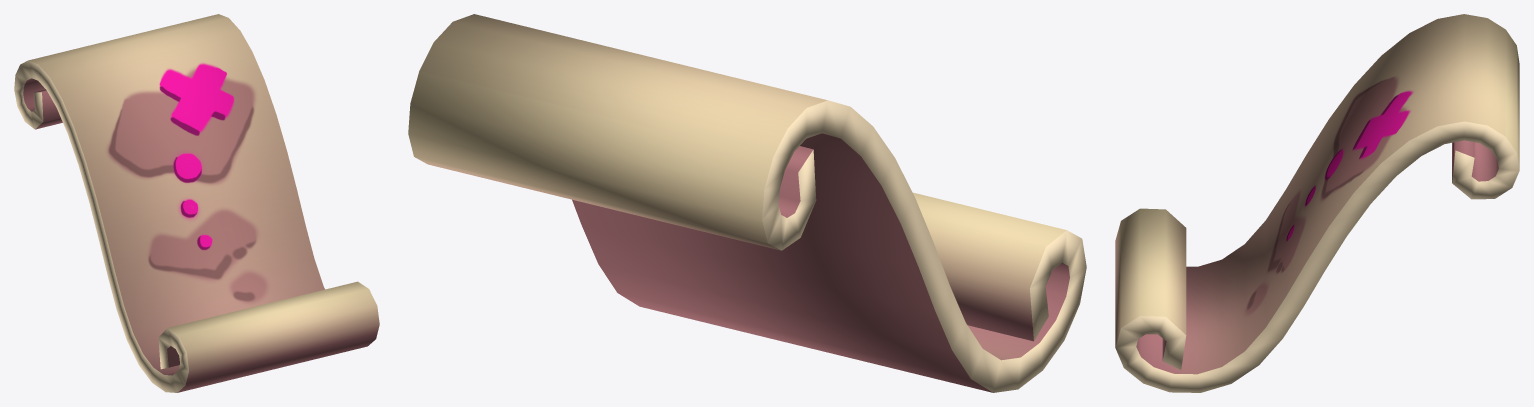
File: Map.fbx
3 views of the same model, side by side, from view 1: azimuth 30°, elevation 25°; view 2: azimuth 150°, elevation 25°; view 3: azimuth 270°, elevation 25° (orthographic). The views are drawn at different scales.
Parts seen in each view (by area): view 1: Map; view 2: Map; view 3: Map.
Part boxes in pixels (left/top/right/bottom): Map: left=14, top=14, right=379, bottom=392; Map: left=408, top=14, right=1086, bottom=392; Map: left=1115, top=14, right=1519, bottom=392.
Size of the model in its own units: 210 by 248 by 334.
